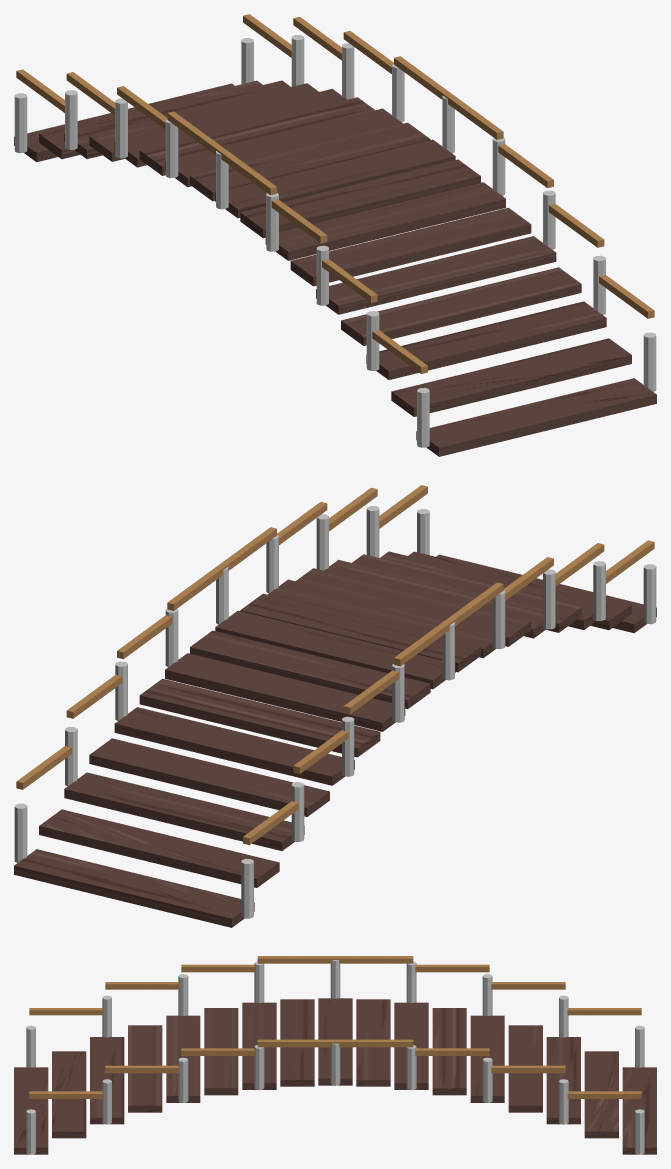
The model's file is shogun_canal_arch_bridge.obj.
3 views of the same model, one above another, from view 1: azimuth 30°, elevation 25°; view 2: azimuth 150°, elevation 25°; view 3: azimuth 270°, elevation 25° (orthographic). The views are drawn at different scales.
Visible parts, largest first — view 1: geometry_16, geometry_15, geometry_13, geometry_12, geometry_10, geometry_14, geometry_11, geometry_9, geometry_8, geometry_7, geometry_6, geometry_5 (+38 smaller); view 2: geometry_0, geometry_1, geometry_3, geometry_4, geometry_6, geometry_2, geometry_5, geometry_7, geometry_8, geometry_9, geometry_10, geometry_11 (+38 smaller); view 3: geometry_3, geometry_7, geometry_9, geometry_13, geometry_1, geometry_5, geometry_11, geometry_15, geometry_0, geometry_16, geometry_8, geometry_6 (+39 smaller).
Part boxes in pixels (bbox=[...]): geometry_16: bbox=[416, 378, 656, 456]; geometry_15: bbox=[391, 338, 631, 416]; geometry_13: bbox=[341, 267, 581, 345]; geometry_12: bbox=[316, 236, 556, 314]; geometry_10: bbox=[265, 182, 505, 260]; geometry_14: bbox=[366, 301, 606, 379]; geometry_11: bbox=[290, 207, 531, 286]; geometry_9: bbox=[240, 159, 480, 238]; geometry_8: bbox=[215, 139, 455, 218]; geometry_7: bbox=[190, 122, 430, 201]; geometry_6: bbox=[165, 108, 402, 187]; geometry_5: bbox=[139, 97, 374, 175]; geometry_0: bbox=[14, 849, 254, 927]; geometry_1: bbox=[39, 809, 279, 887]; geometry_3: bbox=[89, 738, 329, 816]; geometry_4: bbox=[114, 707, 354, 785]; geometry_6: bbox=[165, 653, 405, 731]; geometry_2: bbox=[64, 772, 304, 850]; geometry_5: bbox=[139, 678, 380, 757]; geometry_7: bbox=[190, 630, 430, 709]; geometry_8: bbox=[215, 610, 455, 689]; geometry_9: bbox=[240, 593, 480, 672]; geometry_10: bbox=[268, 579, 505, 658]; geometry_11: bbox=[296, 568, 531, 646]; geometry_3: bbox=[508, 1025, 542, 1112]; geometry_7: bbox=[356, 999, 390, 1086]; geometry_9: bbox=[280, 999, 314, 1086]; geometry_13: bbox=[128, 1025, 162, 1112]; geometry_1: bbox=[584, 1051, 618, 1138]; geometry_5: bbox=[432, 1008, 466, 1095]; geometry_11: bbox=[204, 1008, 238, 1095]; geometry_15: bbox=[52, 1051, 86, 1138]; geometry_0: bbox=[622, 1067, 656, 1154]; geometry_16: bbox=[14, 1067, 48, 1154]; geometry_8: bbox=[318, 998, 352, 1085]; geometry_6: bbox=[394, 1002, 428, 1089].
Size of the model in its own units: 5.46 by 3.34 by 16.9.
